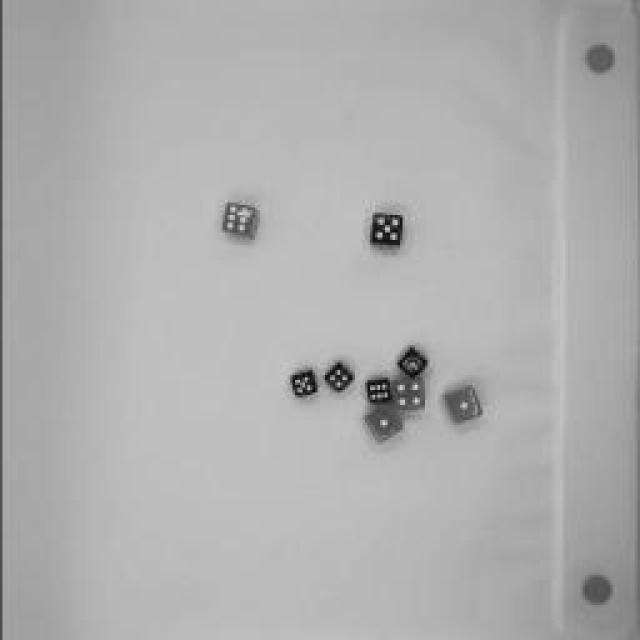dice_1: (362, 397, 406, 455), (439, 381, 489, 431), (390, 341, 432, 381)
dice_4: (385, 370, 427, 415), (317, 356, 355, 394)
dice_5: (364, 207, 406, 255), (286, 365, 319, 403)
dice_6: (216, 196, 262, 244), (358, 374, 394, 406)
